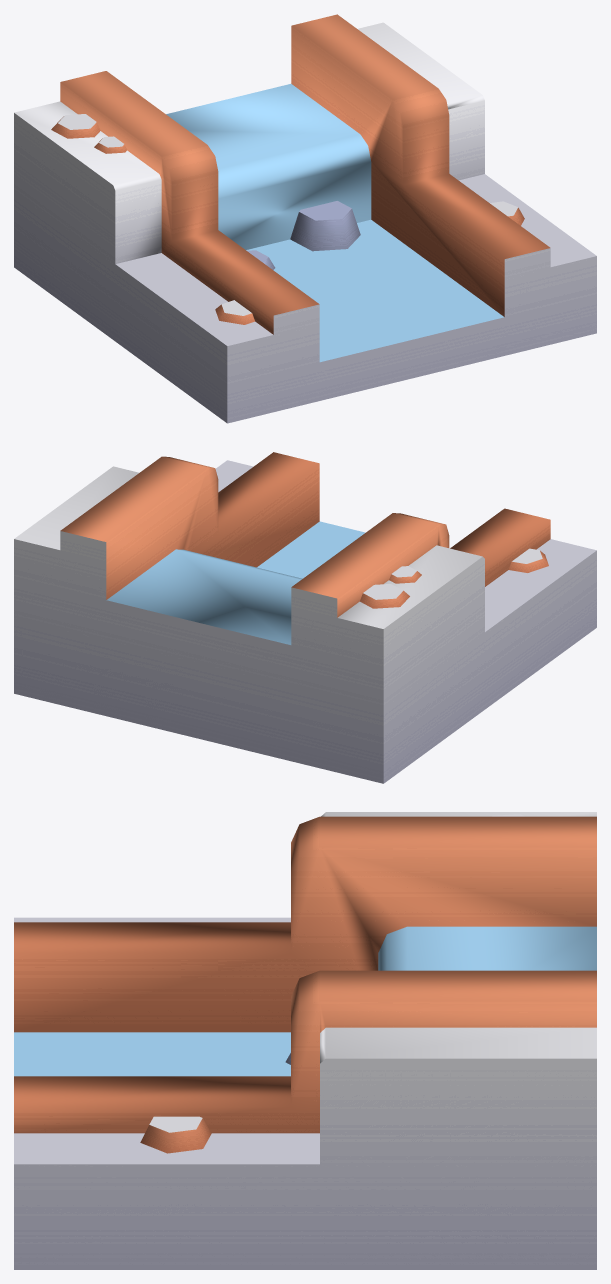
File: snow-tile-river-waterfall.glb
The picture shows the model from 3 angles, top to bottom: view 1: azimuth 30°, elevation 25°; view 2: azimuth 150°, elevation 25°; view 3: azimuth 270°, elevation 25°; orthographic projection. The views are drawn at different scales.
Visible parts, largest first — view 1: snow-tile-river-waterfall; view 2: snow-tile-river-waterfall; view 3: snow-tile-river-waterfall.
Boxes of the visible parts, left/top/right/bottom form: snow-tile-river-waterfall: left=14, top=14, right=596, bottom=423; snow-tile-river-waterfall: left=14, top=452, right=596, bottom=783; snow-tile-river-waterfall: left=14, top=812, right=596, bottom=1269.
Bounding box in the file's own units: 1 × 0.45 × 1.
1 material, 1 textured.
